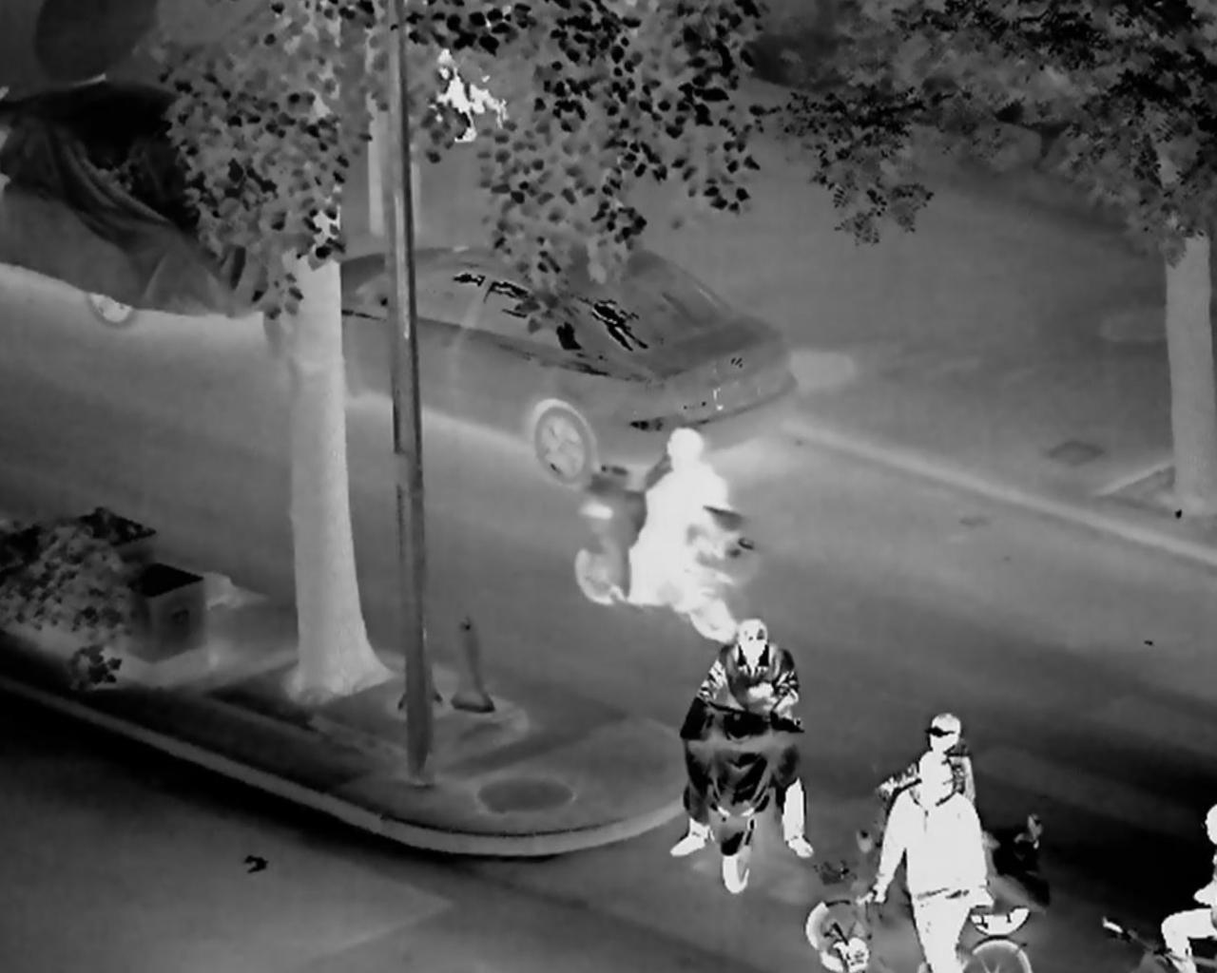person: (680, 617, 826, 882), (875, 752, 1006, 973), (596, 432, 727, 633), (885, 697, 967, 821)
